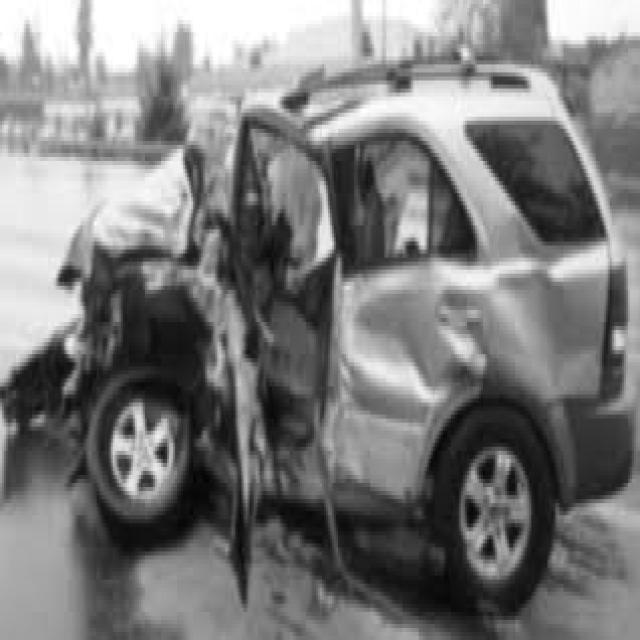accident: (8, 70, 618, 617)
